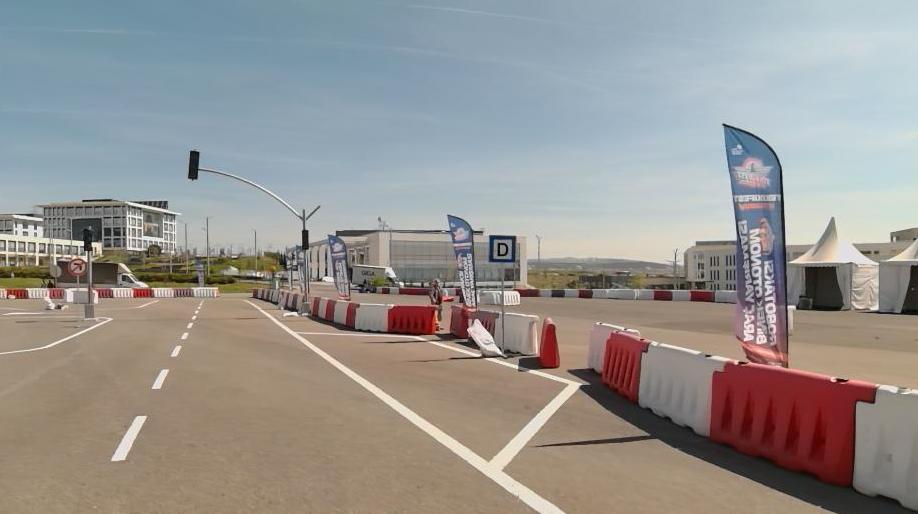nesne: (0, 298, 566, 513), (80, 298, 564, 513), (247, 299, 563, 512), (287, 331, 581, 479), (1, 299, 204, 513), (288, 331, 581, 479), (710, 359, 875, 489), (638, 340, 726, 436), (852, 384, 917, 511), (601, 330, 647, 403), (584, 321, 639, 372), (495, 312, 538, 356), (112, 416, 147, 461), (389, 305, 437, 333), (467, 321, 504, 356), (252, 287, 300, 310), (538, 317, 560, 367), (353, 303, 390, 328), (468, 310, 499, 337), (488, 235, 515, 264), (592, 289, 652, 300), (151, 369, 169, 389), (345, 301, 358, 328), (690, 289, 714, 303), (479, 291, 502, 305), (67, 258, 87, 274), (334, 300, 346, 324), (715, 290, 739, 302), (27, 287, 49, 299), (65, 289, 85, 302), (192, 288, 218, 297), (6, 287, 27, 298), (654, 290, 673, 302), (503, 291, 520, 304), (133, 287, 153, 298), (111, 288, 133, 298), (401, 290, 433, 296), (93, 288, 112, 298), (518, 288, 537, 298), (672, 290, 689, 301), (310, 297, 320, 315), (50, 287, 65, 299), (152, 288, 174, 296), (173, 288, 192, 296), (325, 300, 332, 321), (318, 299, 325, 319), (170, 345, 182, 356), (538, 288, 551, 298), (580, 289, 592, 299), (563, 289, 578, 297), (552, 288, 561, 298), (180, 331, 189, 339), (390, 288, 399, 296), (380, 288, 389, 294)
